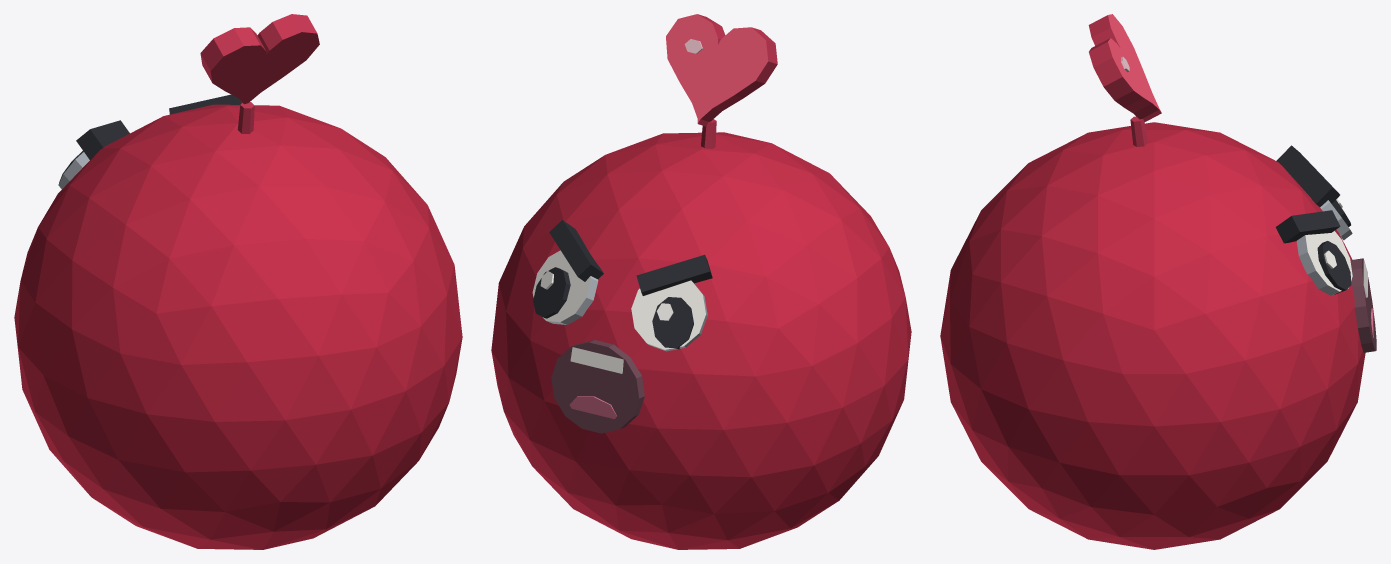
File: CH_Cano_T4_Eat.fbx
3 renders of one model, left to right at view 1: azimuth 30°, elevation 25°; view 2: azimuth 150°, elevation 25°; view 3: azimuth 270°, elevation 25°, orthographic. The views are drawn at different scales.
Visible parts, largest first — view 1: CH_Cano_T4_Eat; view 2: CH_Cano_T4_Eat; view 3: CH_Cano_T4_Eat.
Part boxes in pixels (x1,y1,x2,y2): CH_Cano_T4_Eat: [14, 14, 462, 549]; CH_Cano_T4_Eat: [491, 14, 911, 549]; CH_Cano_T4_Eat: [940, 14, 1376, 549].
Size of the model in its own units: 1 by 1.29 by 1.02.
